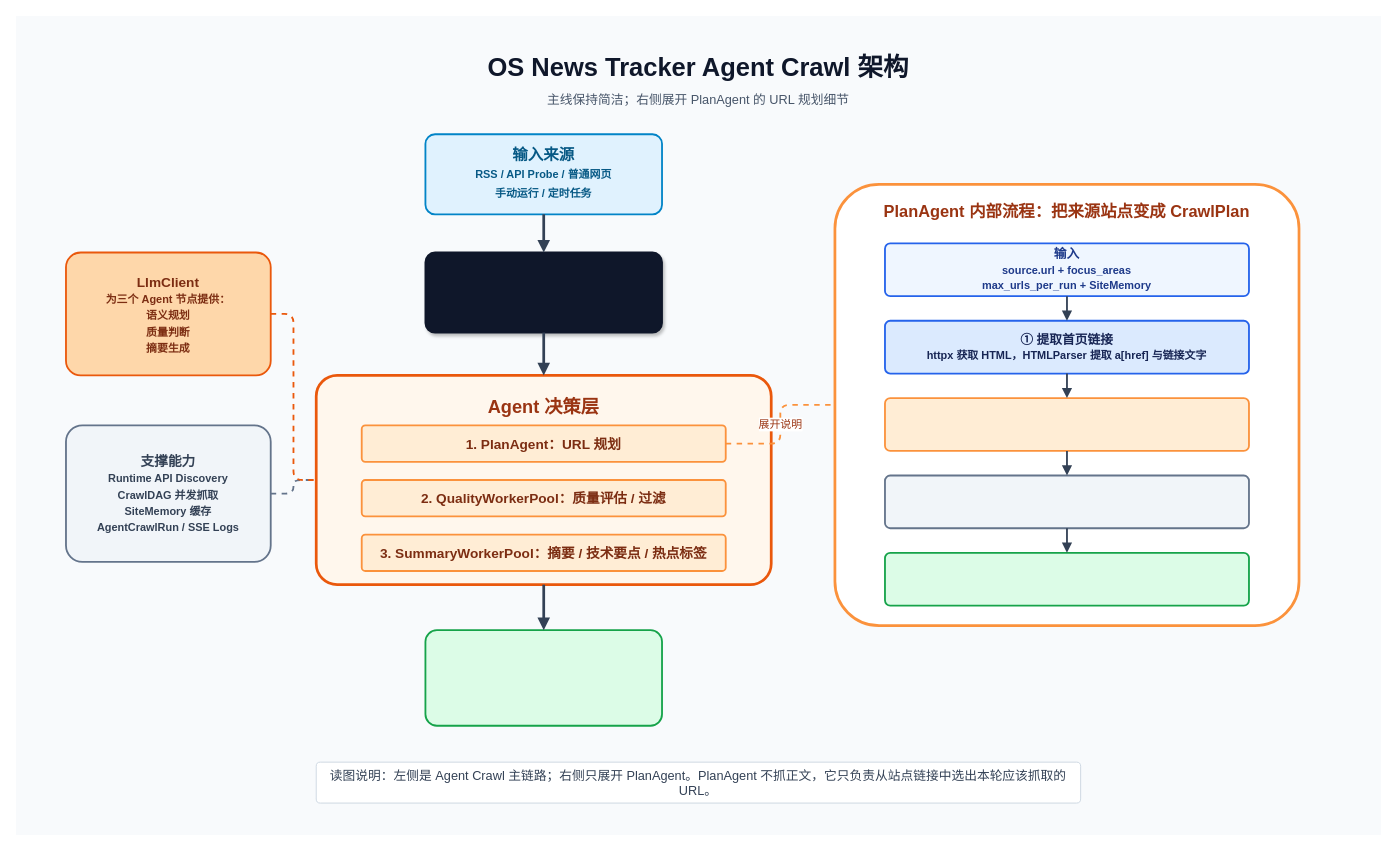
The diagram is 1396 pixels wide and 850 high, and some of its shapes have lost their labels. The centre of each missing label's shape, as x and y in pixels:
AgentCrawlFetcher 读取配置、创建运行记录、编排流程: (x=544, y=293)
② LLM 语义筛选与排序 按 OS maintainer 价值选择技术文章、公告、安全/性能内容: (x=1066, y=424)
③ 确定性校验 JSON 解析、http/https、同域过滤、SiteMemory 跳过低质 URL: (x=1066, y=501)
输出 CrawlPlan：PlanUrl(url, guessed_topic) 列表: (x=1066, y=578)
输出入库 AgentItem → RawItem.extra Item(status=agent_enriched) 前端展示摘要、热点、原文链接: (x=543, y=677)
